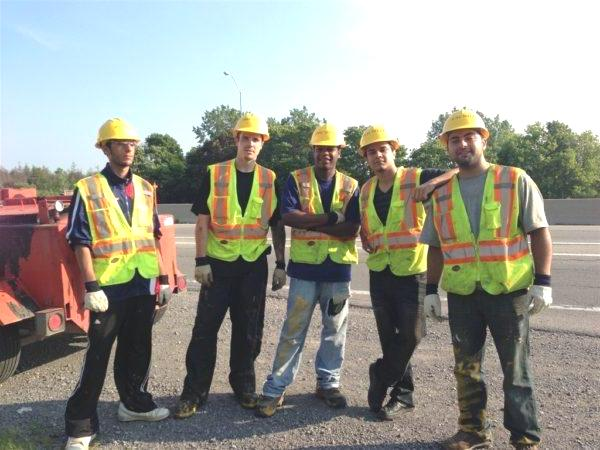helmet: (442, 108, 486, 138), (96, 118, 140, 144), (306, 123, 350, 146), (233, 111, 273, 135), (356, 126, 393, 150)
person: (440, 111, 536, 450), (181, 117, 278, 410), (65, 121, 156, 419), (267, 117, 350, 414), (357, 128, 427, 421)
